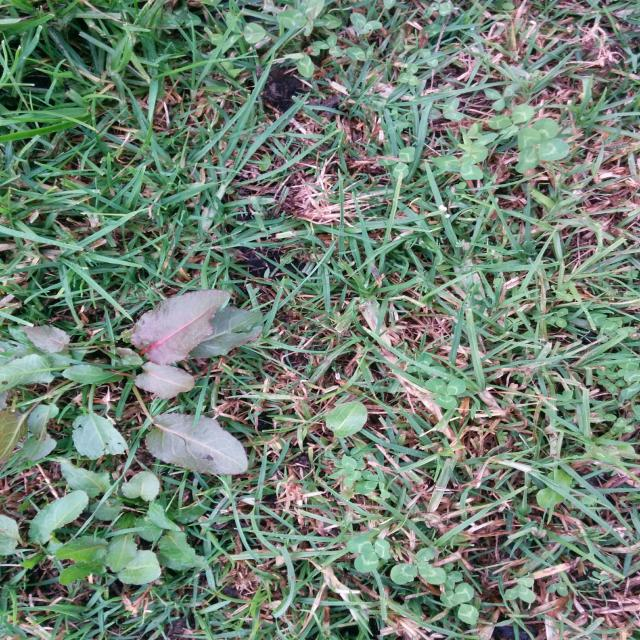Four Leaf Clover: (515, 118, 569, 173)
